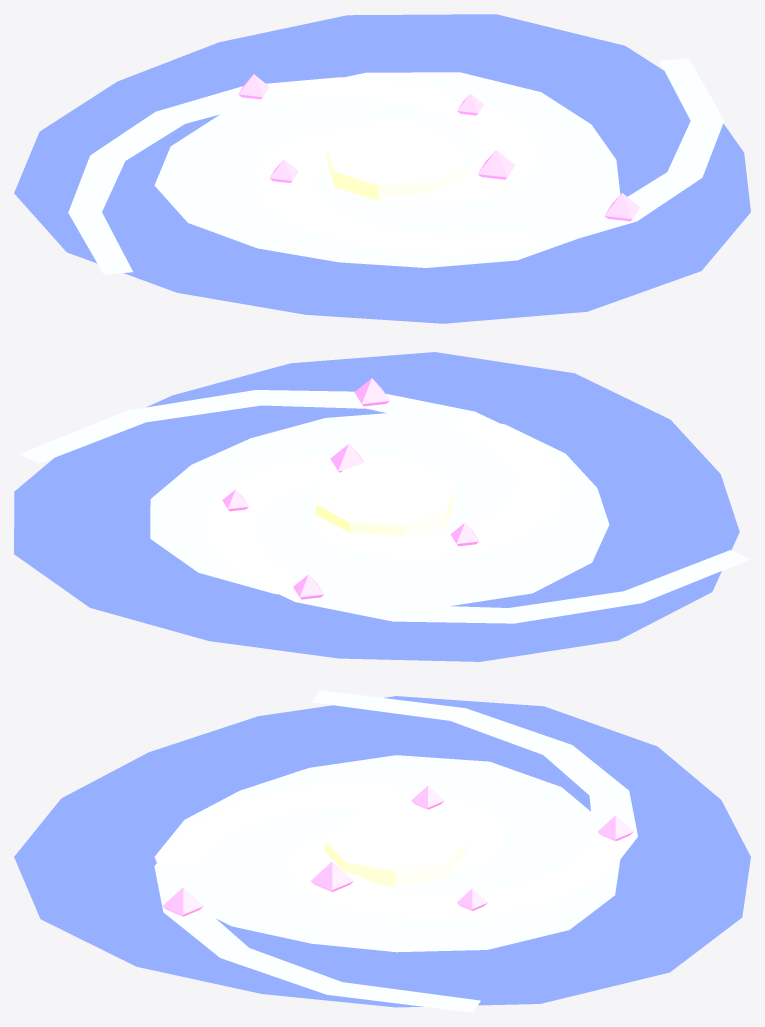
The model's file is spiral_galaxy.glb.
The picture shows the model from 3 angles, top to bottom: view 1: azimuth 30°, elevation 25°; view 2: azimuth 150°, elevation 25°; view 3: azimuth 270°, elevation 25°; orthographic projection.
Visible parts, largest first — view 1: body; view 2: body; view 3: body.
Part boxes in pixels (x1,y1,x2,y2): body: [14, 14, 750, 323]; body: [14, 352, 750, 661]; body: [14, 690, 750, 1012].
Size of the model in its own units: 203 by 22 by 196.
